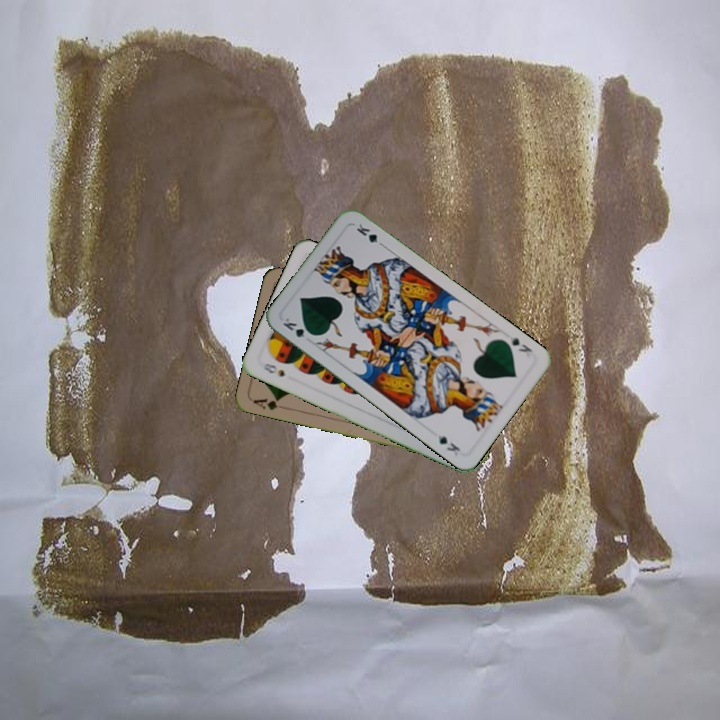GA: (249, 394, 289, 413)
GK: (279, 314, 316, 342), (506, 332, 535, 355)
S8: (258, 359, 287, 380)
